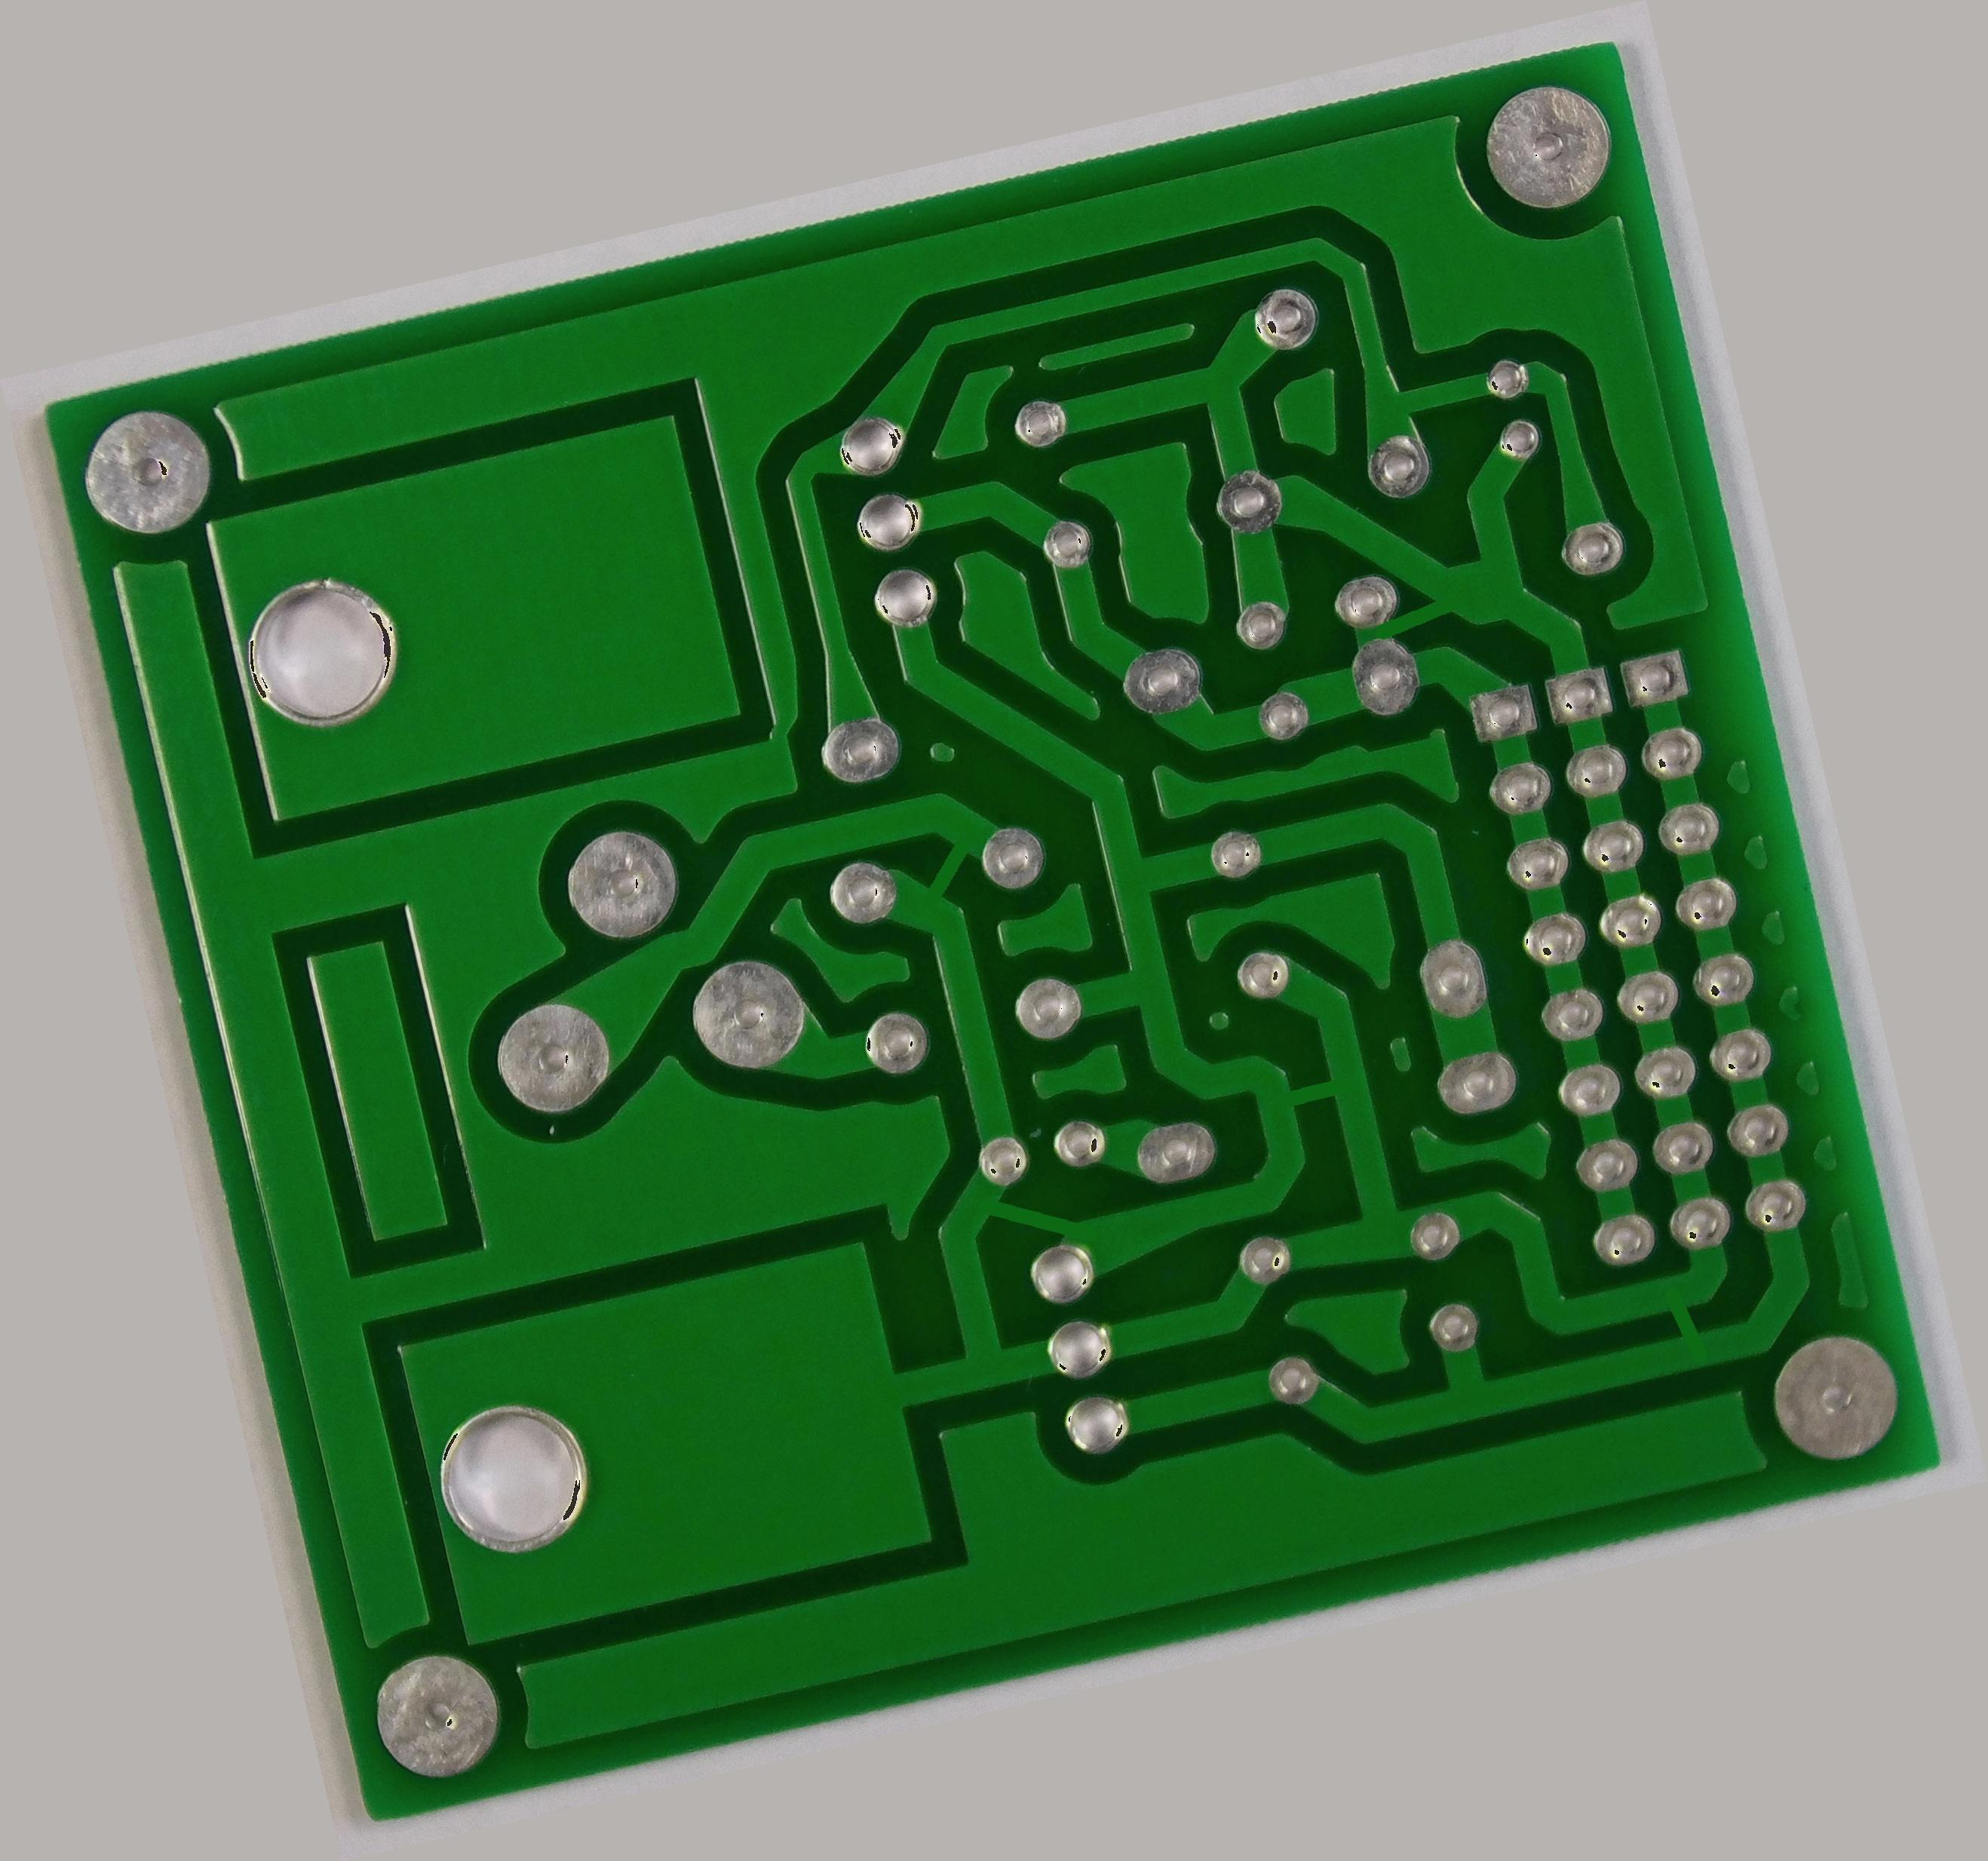short: (1323, 540, 1501, 689), (954, 1147, 1113, 1298), (884, 808, 1015, 934), (1239, 1039, 1384, 1151), (1631, 1258, 1734, 1389)
